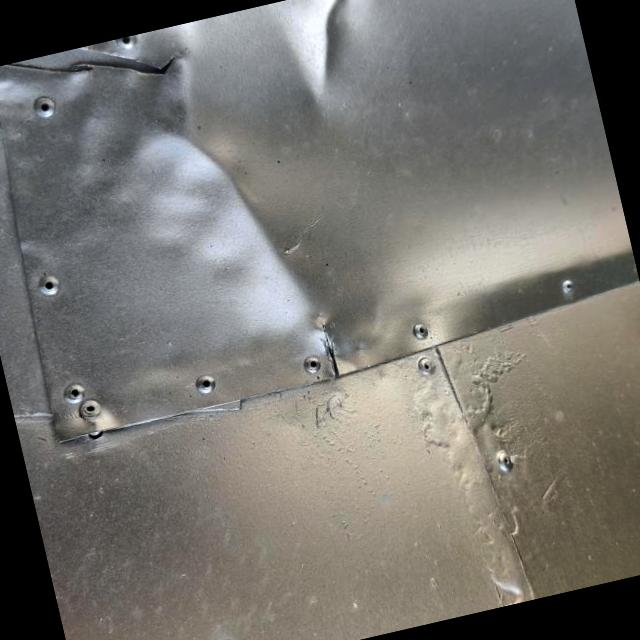crack: (0, 24, 192, 126), (306, 310, 359, 390)
dent: (85, 63, 408, 410), (248, 0, 417, 144)
